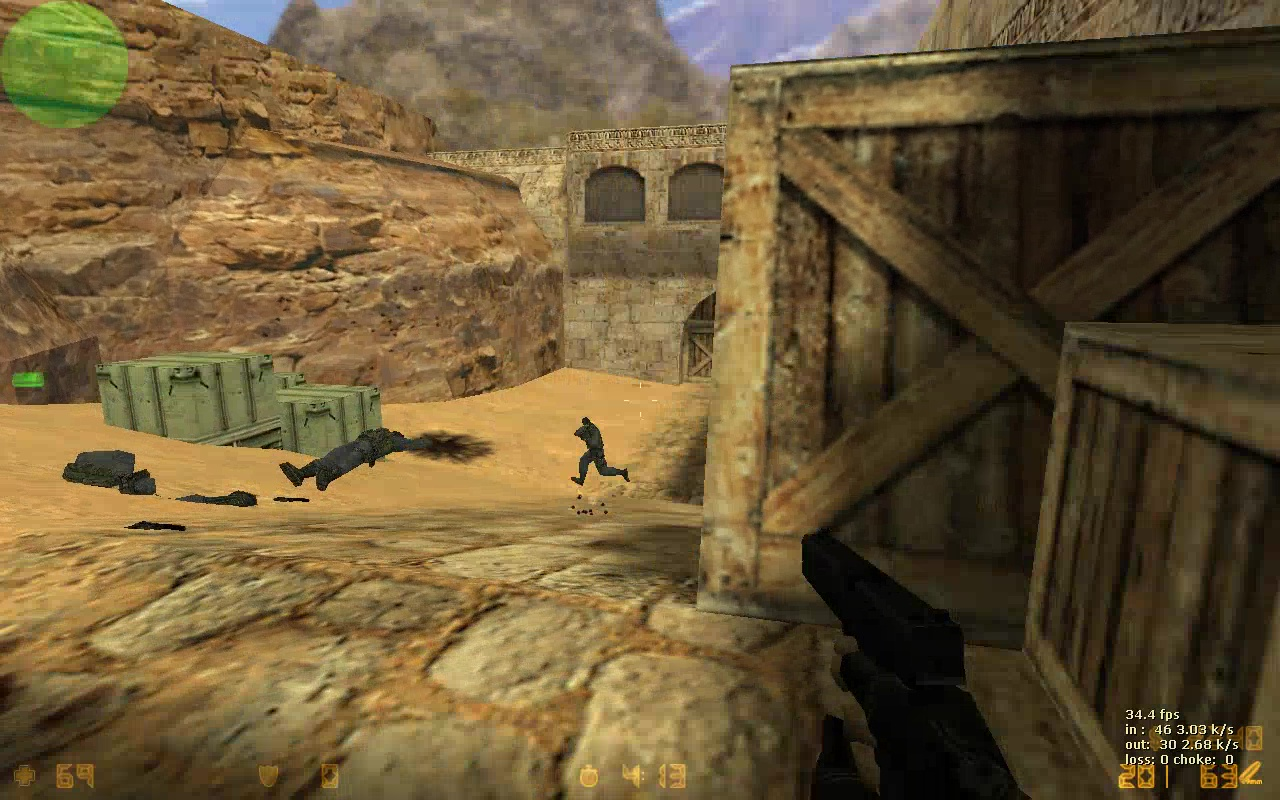ct: (568, 415, 631, 487)
dead: (276, 425, 434, 493)
